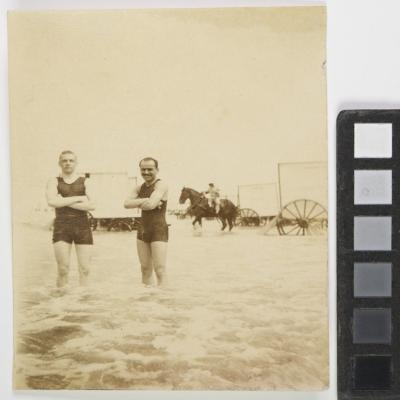photos_negatives: (7, 11, 326, 389)
